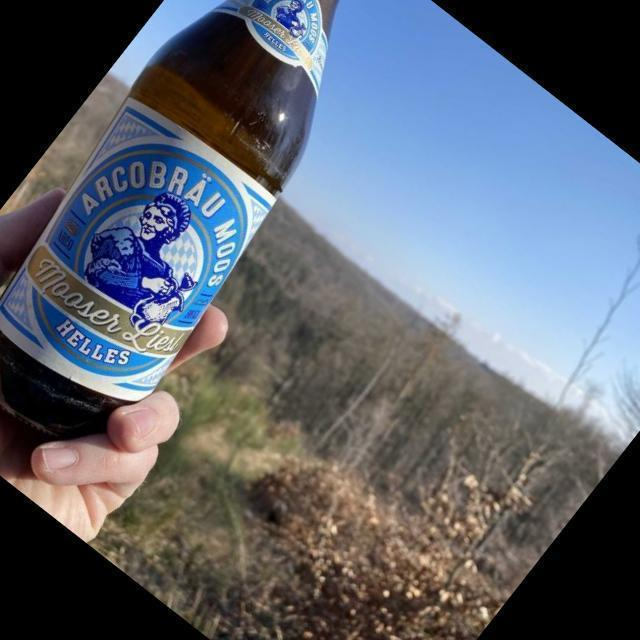BotolKaca: (0, 0, 344, 440)
